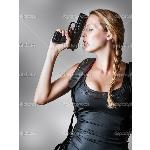Pistol: (46, 13, 87, 51)
